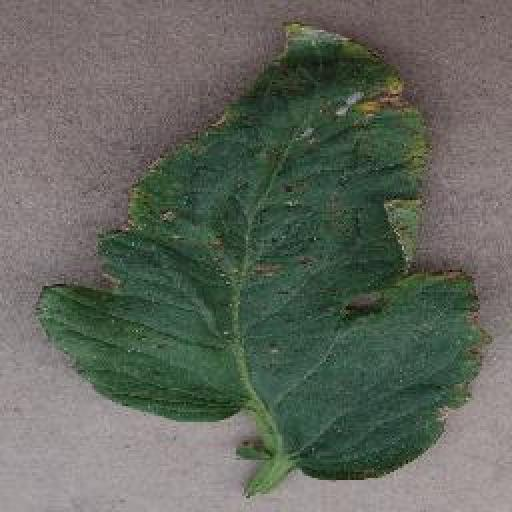Bacterial Spot: (31, 18, 492, 482)
